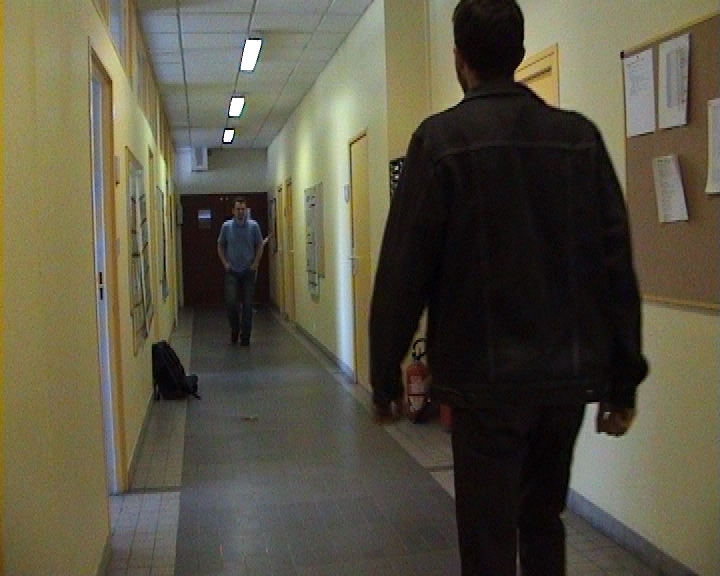leave bag unattended: (139, 325, 213, 416)
